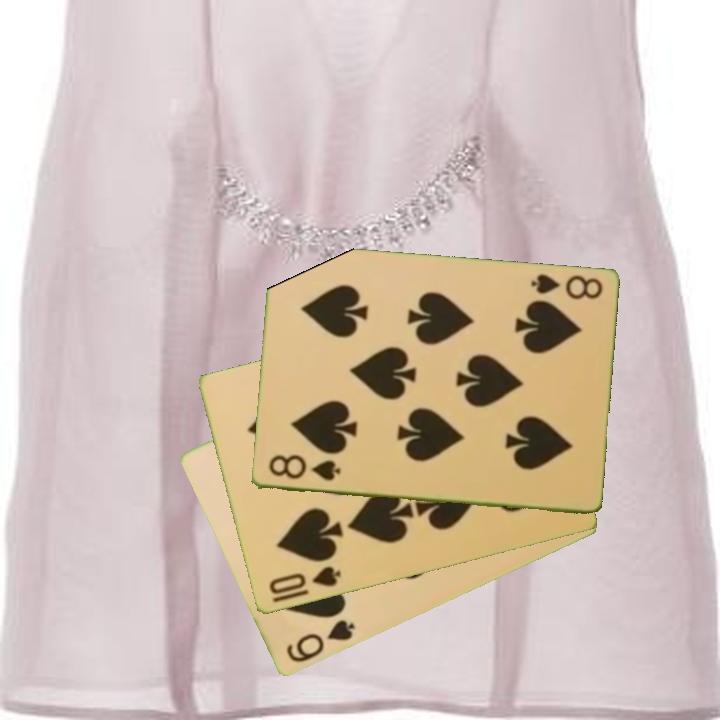10s: (265, 563, 344, 598)
6s: (282, 616, 358, 666)
8s: (264, 452, 343, 484), (527, 271, 605, 303)
